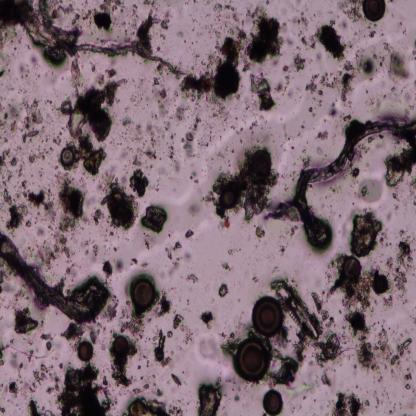Background material: (59, 65, 124, 175), (203, 149, 280, 223), (180, 28, 247, 104), (243, 0, 295, 65), (58, 361, 112, 416), (99, 169, 140, 233), (114, 113, 160, 169), (346, 209, 389, 259), (375, 326, 416, 376), (52, 170, 84, 233), (200, 0, 244, 42), (329, 274, 377, 312), (391, 236, 416, 300), (312, 331, 356, 366), (27, 232, 67, 270), (193, 373, 228, 416), (354, 335, 383, 384), (316, 18, 348, 62), (121, 395, 186, 416), (268, 347, 300, 388), (204, 100, 234, 143), (352, 45, 384, 84), (382, 42, 412, 83), (121, 299, 150, 341), (160, 120, 182, 175), (132, 11, 161, 52), (158, 241, 190, 278), (249, 72, 277, 113), (265, 201, 302, 230), (0, 0, 36, 29), (151, 63, 170, 117), (20, 100, 43, 144), (294, 6, 317, 50), (305, 68, 341, 96), (339, 309, 371, 340), (332, 391, 369, 416), (312, 292, 336, 328), (151, 327, 173, 366), (182, 115, 202, 157), (140, 205, 170, 232), (26, 363, 53, 392), (335, 0, 367, 23), (128, 168, 152, 198), (4, 202, 28, 232), (110, 358, 132, 390), (13, 306, 38, 334), (357, 179, 385, 203), (286, 382, 317, 403), (340, 61, 353, 109), (3, 286, 29, 310), (293, 334, 315, 362), (174, 312, 193, 344), (195, 336, 221, 359), (63, 320, 84, 348), (130, 338, 150, 366), (48, 0, 74, 21), (387, 86, 414, 106), (27, 398, 57, 416), (155, 289, 173, 319), (275, 63, 292, 93), (326, 253, 344, 281), (26, 186, 51, 206), (101, 294, 120, 320), (279, 124, 297, 151), (365, 88, 387, 110), (132, 78, 147, 110), (27, 146, 54, 163), (380, 108, 412, 122), (94, 9, 114, 31), (9, 349, 25, 376), (44, 198, 57, 230), (70, 59, 81, 96), (200, 306, 216, 330), (0, 25, 18, 46), (98, 0, 125, 14), (403, 176, 416, 205), (223, 333, 240, 355), (0, 47, 12, 78), (322, 366, 337, 390), (12, 179, 29, 200), (0, 263, 11, 295), (25, 334, 37, 362), (161, 4, 173, 32), (122, 20, 137, 42), (8, 106, 20, 133), (151, 171, 165, 194), (79, 238, 95, 257), (47, 376, 63, 395), (292, 54, 308, 73), (397, 396, 416, 411), (65, 262, 80, 280), (79, 7, 94, 25), (91, 209, 105, 228), (372, 390, 384, 412), (102, 259, 114, 280), (218, 146, 230, 167), (0, 111, 11, 133), (90, 322, 102, 342), (314, 129, 332, 142), (403, 372, 414, 393), (42, 330, 53, 351), (252, 225, 266, 241), (8, 379, 21, 396), (0, 169, 13, 186), (0, 341, 9, 365), (329, 101, 340, 120), (218, 283, 229, 301), (28, 52, 39, 70), (175, 105, 188, 120), (138, 260, 153, 273), (0, 148, 10, 167), (189, 202, 201, 217), (19, 63, 30, 79), (142, 230, 151, 249), (3, 187, 12, 206), (288, 402, 302, 414), (186, 273, 200, 285), (220, 260, 232, 274), (95, 72, 106, 87), (382, 295, 393, 309), (329, 186, 344, 196), (16, 162, 26, 177), (301, 155, 311, 170), (190, 169, 199, 185), (104, 226, 116, 238), (130, 2, 139, 18), (52, 132, 63, 145), (71, 12, 81, 26), (350, 167, 361, 179), (105, 69, 117, 80), (186, 228, 197, 240), (388, 403, 398, 416), (249, 120, 259, 133), (115, 259, 124, 272), (142, 0, 156, 8), (309, 105, 317, 119), (250, 274, 260, 285), (225, 247, 240, 254), (131, 388, 144, 396), (412, 36, 416, 61), (316, 97, 326, 107), (9, 156, 19, 166), (235, 127, 244, 138), (91, 244, 98, 258), (0, 134, 8, 146), (315, 50, 323, 62), (155, 388, 164, 397), (37, 227, 45, 237), (130, 256, 138, 266), (344, 113, 354, 121), (25, 219, 33, 229), (368, 29, 376, 39), (393, 191, 400, 202), (15, 145, 22, 156), (34, 212, 40, 224), (233, 394, 241, 403), (108, 58, 116, 67), (316, 146, 324, 155), (43, 99, 53, 106), (91, 60, 96, 73), (411, 311, 416, 323), (38, 167, 44, 177), (280, 246, 286, 256), (45, 133, 51, 142), (0, 102, 5, 112), (301, 120, 306, 130), (394, 204, 398, 216), (143, 384, 151, 390), (6, 85, 14, 91), (386, 212, 391, 221), (40, 318, 44, 329), (238, 138, 244, 145), (113, 245, 118, 253), (0, 201, 4, 210), (0, 408, 6, 414), (156, 47, 161, 53), (59, 363, 64, 369), (136, 364, 141, 370), (27, 43, 31, 50), (18, 37, 22, 44), (413, 79, 416, 87), (408, 106, 413, 110), (14, 46, 18, 51), (18, 89, 22, 94), (60, 76, 64, 80), (45, 72, 48, 77), (232, 149, 235, 154), (37, 74, 40, 78), (413, 202, 416, 206)
Cellulose filter fibre: (294, 119, 416, 248), (19, 3, 183, 74), (0, 234, 111, 322)
Diatom: (274, 278, 320, 339), (235, 337, 270, 382), (251, 294, 284, 335), (132, 278, 154, 307), (262, 388, 284, 416), (252, 148, 273, 177), (362, 0, 386, 22), (110, 333, 129, 357), (76, 339, 94, 362), (344, 255, 362, 278), (221, 186, 238, 210), (59, 147, 76, 168), (375, 274, 389, 294), (172, 371, 182, 387), (64, 247, 70, 259)
Fragment: (224, 220, 231, 228)
